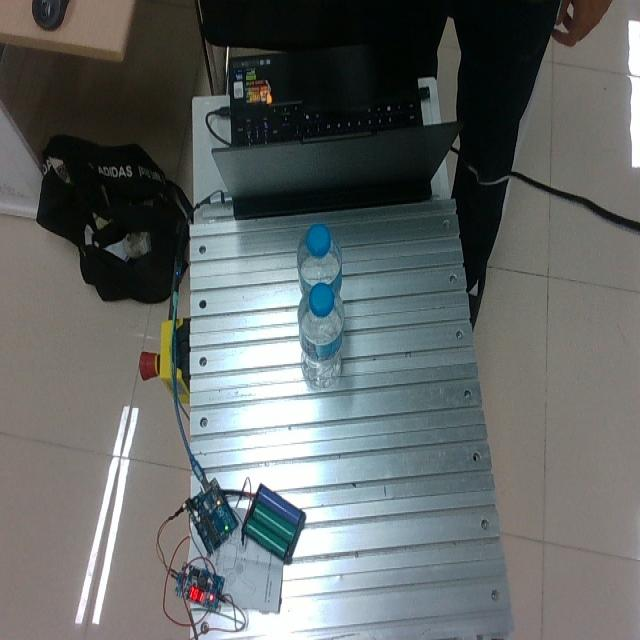lavie: (297, 281, 344, 387), (296, 224, 343, 300)
